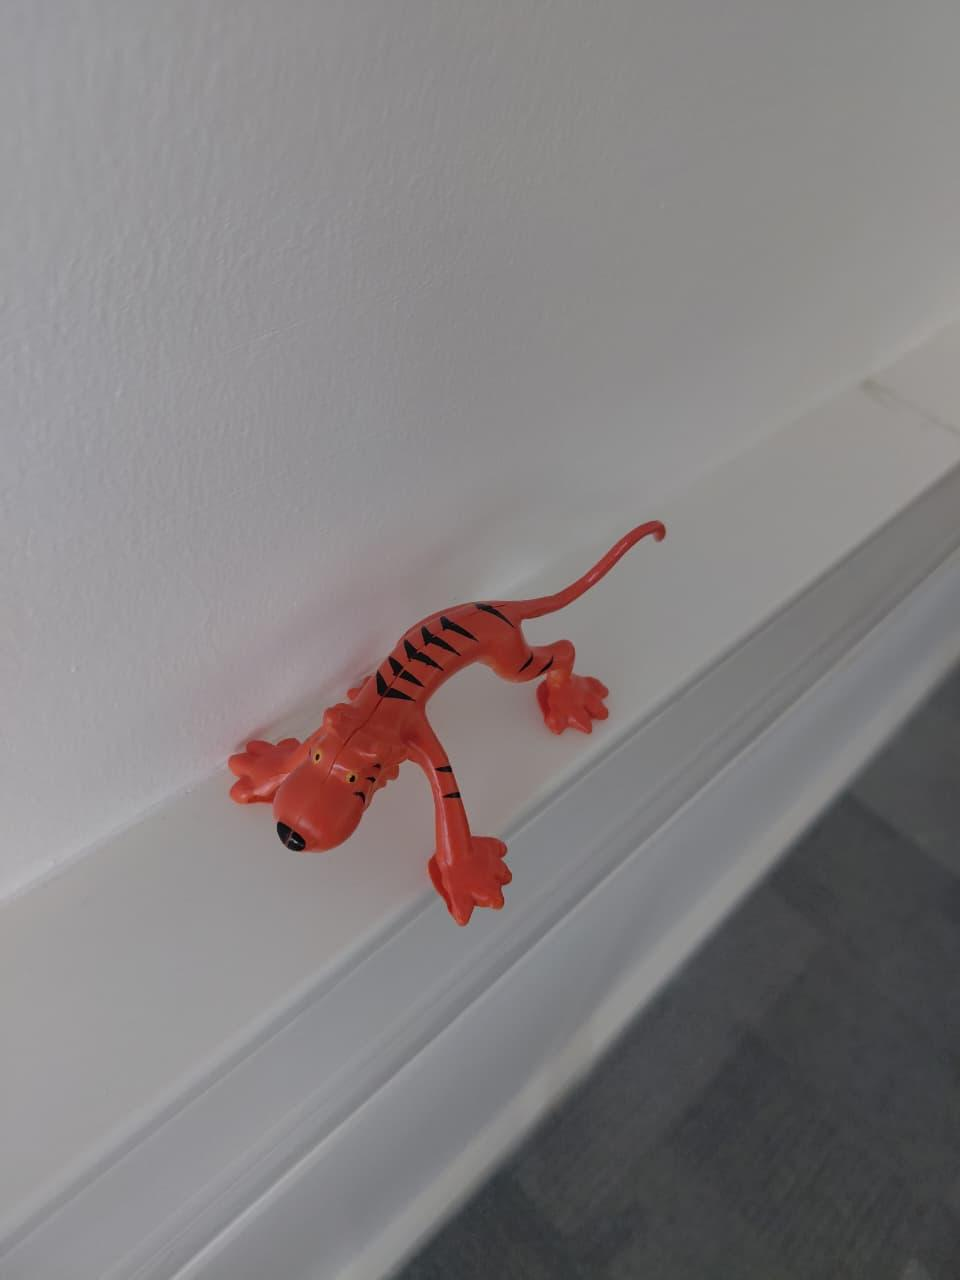tiger: (142, 503, 776, 950)
